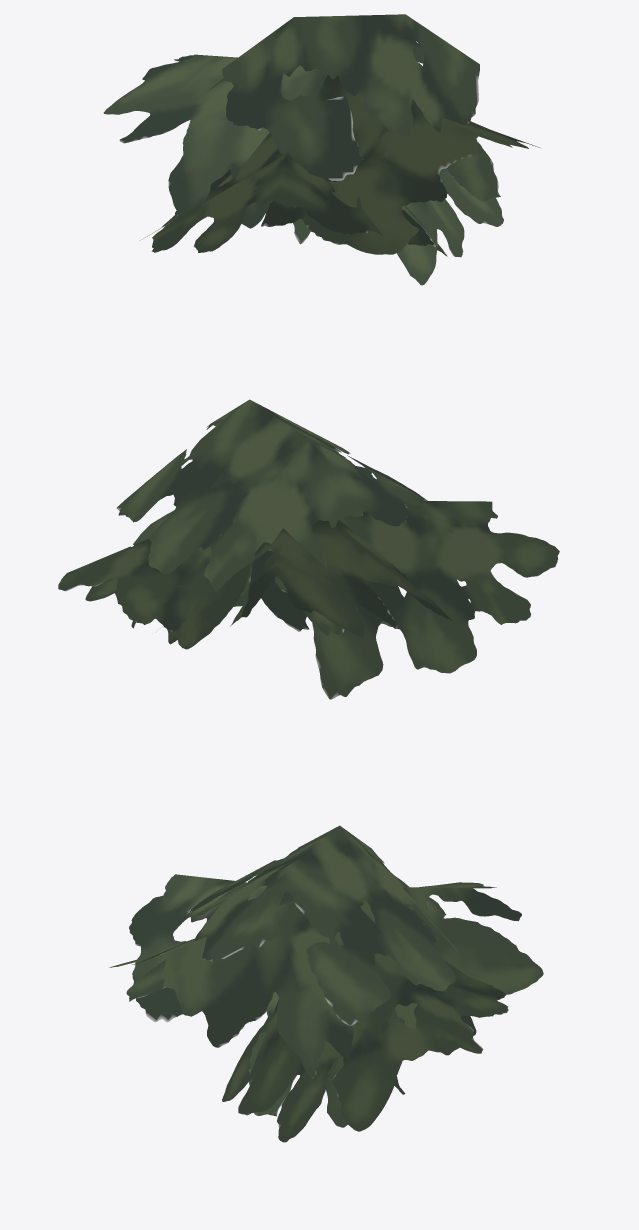
Rendered from bush-04.fbx.
The picture shows the model from 3 angles, top to bottom: view 1: azimuth 30°, elevation 25°; view 2: azimuth 150°, elevation 25°; view 3: azimuth 270°, elevation 25°; orthographic projection.
Visible parts, largest first — view 1: bush_04; view 2: bush_04; view 3: bush_04.
Boxes of the visible parts, x1,y1,x2,y2 form: bush_04: (103, 14, 541, 285); bush_04: (58, 399, 559, 699); bush_04: (109, 825, 543, 1142).
Bounding box in the file's own units: 184 × 101 × 183.
